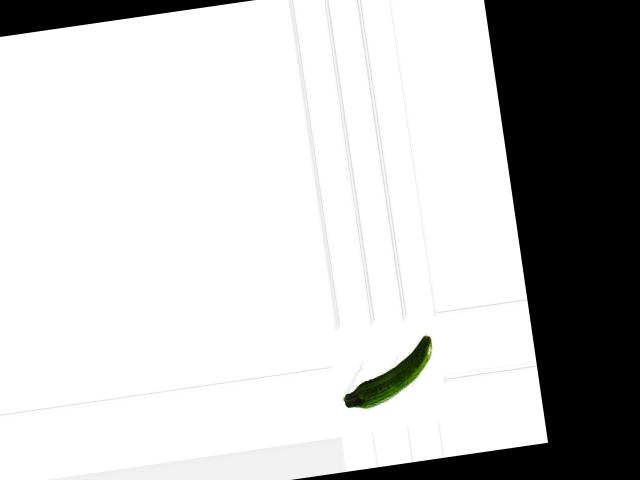cucumber: (335, 334, 439, 411)
